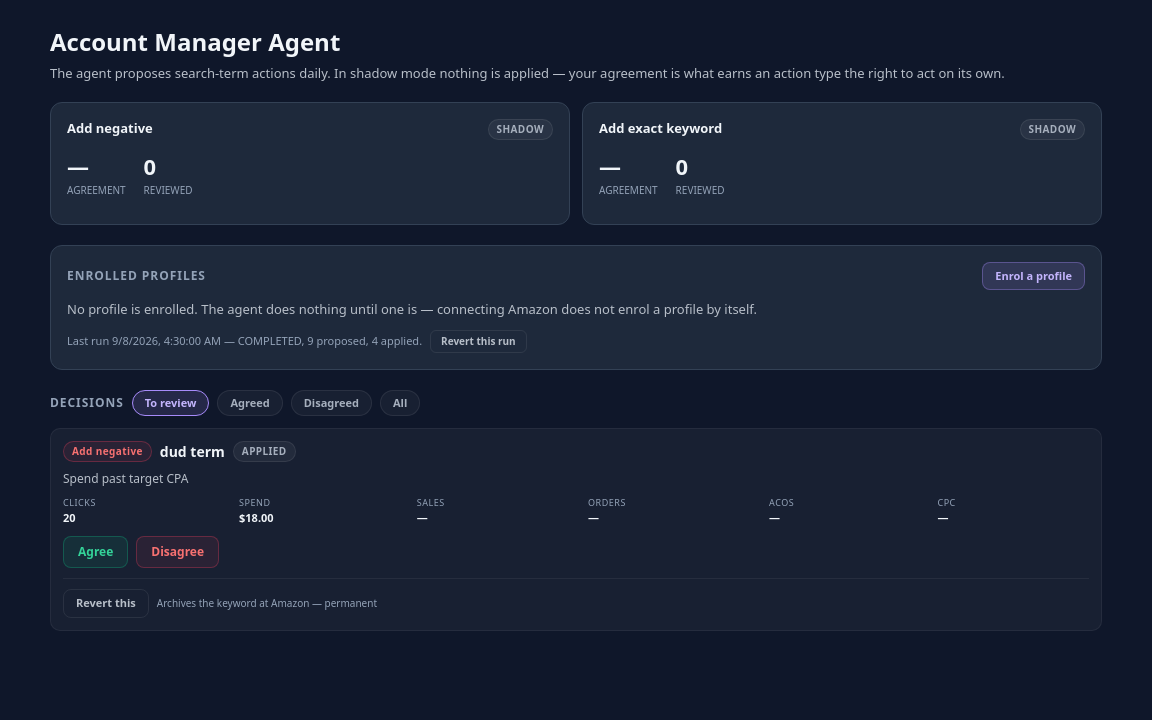
Test: reverting a whole run › reports a partial revert by naming what survived
The width and height of the screenshot is (1152, 720).
Expected: the text "dud term" is shown, [160,441,225,462]
Click the button "Revert this run" at (478, 341), box [430,330,527,352]
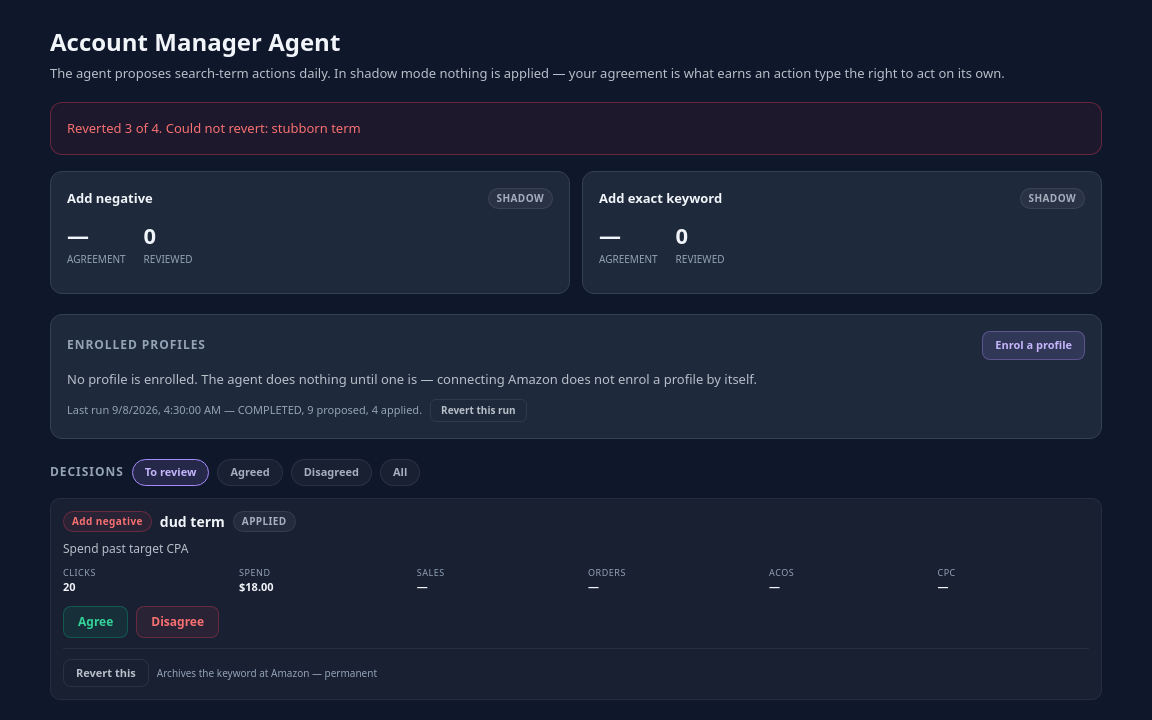
Now the text "Reverted 3 of 4. Could not revert: stubborn term" is shown, box [67,118,361,136]
